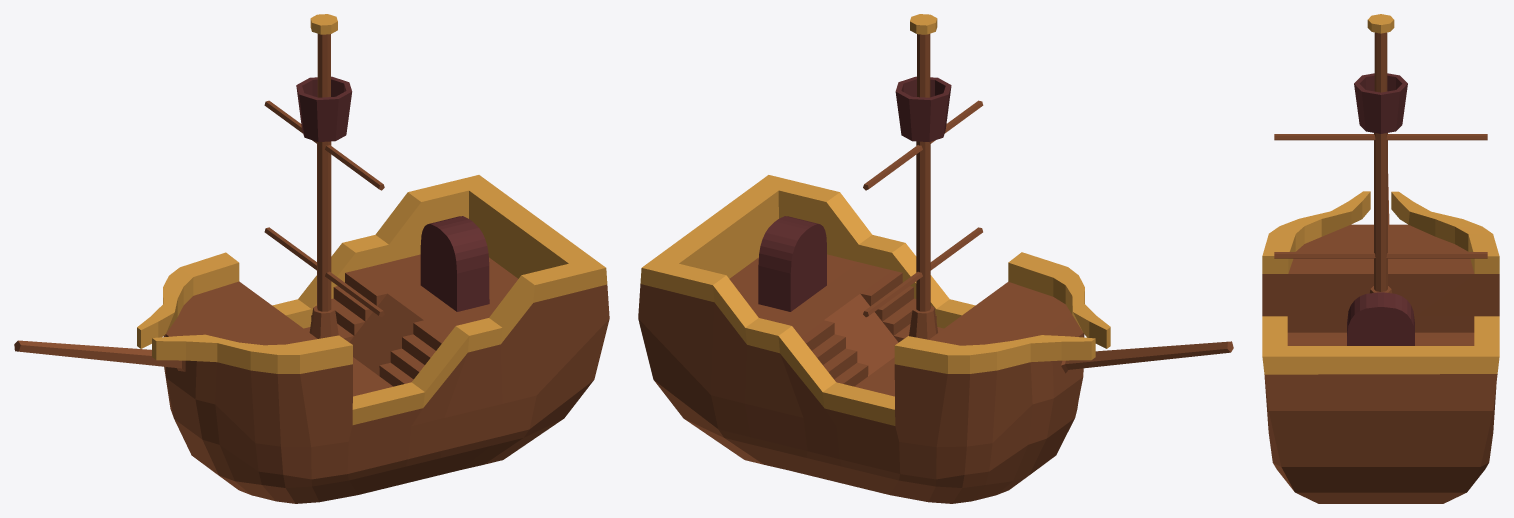
Rendered from ship2.glb.
3 renders of one model, left to right at view 1: azimuth 30°, elevation 25°; view 2: azimuth 150°, elevation 25°; view 3: azimuth 270°, elevation 25°, orthographic. The views are drawn at different scales.
Visible parts, largest first — view 1: ship2; view 2: ship2; view 3: ship2.
Boxes of the visible parts, bbox=[...] form: ship2: bbox=[14, 14, 609, 503]; ship2: bbox=[638, 14, 1233, 503]; ship2: bbox=[1262, 14, 1499, 503].
Bounding box in the file's own units: 4.85 × 3.81 × 2.
Materials: 1 (1 with a texture image).
